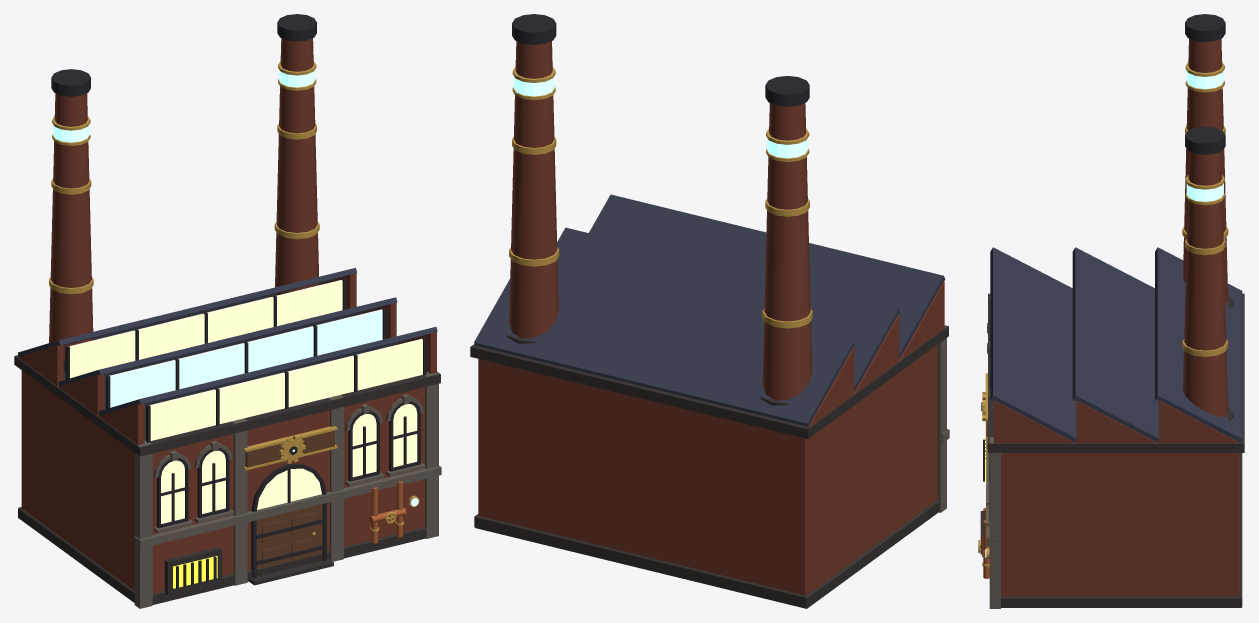
File: Fabrica.fbx
The picture shows the model from 3 angles, left to right: view 1: azimuth 30°, elevation 25°; view 2: azimuth 150°, elevation 25°; view 3: azimuth 270°, elevation 25°; orthographic projection. The views are drawn at different scales.
Visible parts, largest first — view 1: Corpo, JanelaAndar2, JanelaCristal, JanelaAndar1, JanelaAndar0, CristalPulso; view 2: Corpo, CristalPulso; view 3: Corpo, CristalPulso.
Part boxes in pixels (x1,y1,x2,y2): Corpo: (14,14,441,608); JanelaAndar2: (69,280,422,440); JanelaCristal: (109,309,382,407); JanelaAndar1: (161,404,417,523); JanelaAndar0: (257,468,321,509); CristalPulso: (53,69,418,506); Corpo: (470,14,949,608); CristalPulso: (513,76,807,158); Corpo: (978,14,1244,608); CristalPulso: (985,70,1223,557).
Size of the model in its own units: 14.4 by 20.35 by 10.79.
